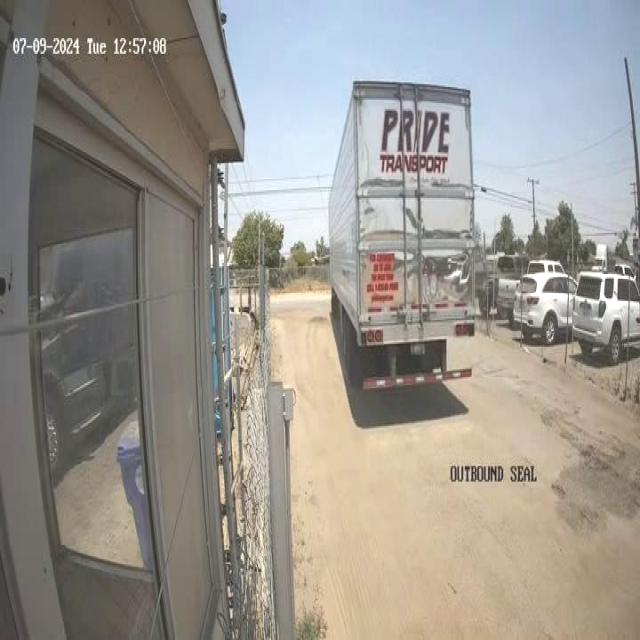CONTAINER: (327, 78, 477, 351)
